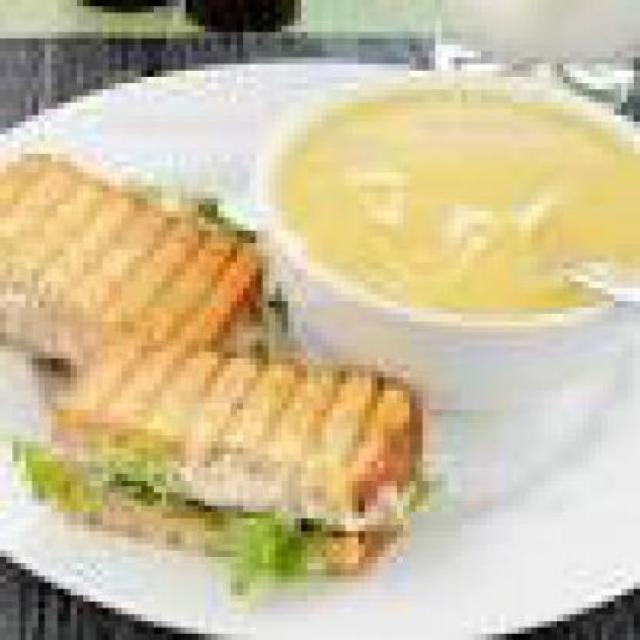clam chowder: (224, 45, 633, 384)
